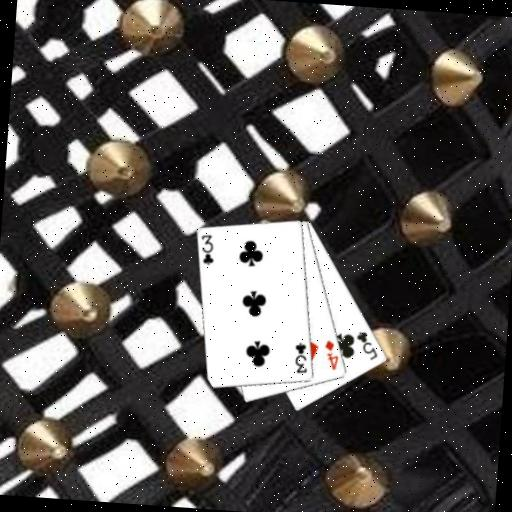3C: (291, 339, 311, 376), (197, 232, 217, 268)
4D: (321, 337, 342, 372)
5C: (352, 328, 381, 362)
